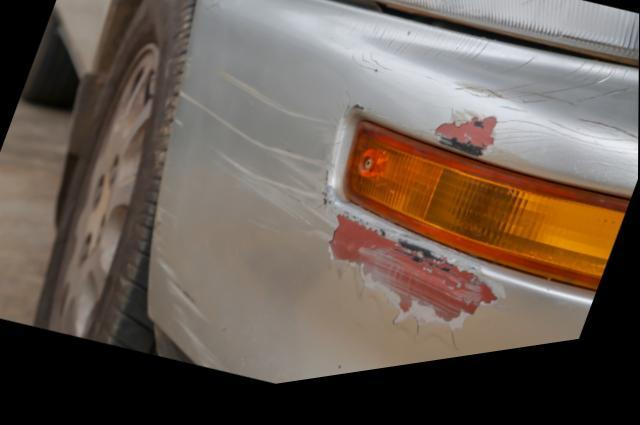scratch: (151, 74, 515, 382), (425, 127, 509, 172)
